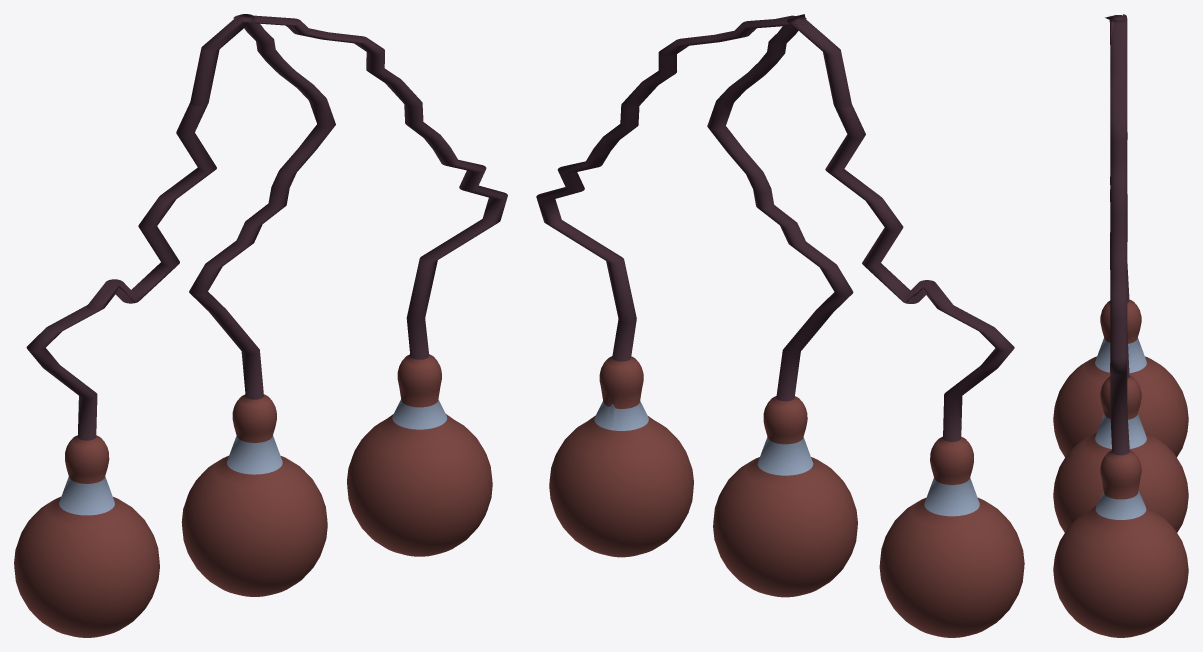
The model's file is ÁlvaroSaravia_4C_boleadoras.fbx.
The picture shows the model from 3 angles, left to right: view 1: azimuth 30°, elevation 25°; view 2: azimuth 150°, elevation 25°; view 3: azimuth 270°, elevation 25°; orthographic projection. The views are drawn at different scales.
Parts seen in each view (by area): view 1: Sphere.003; view 2: Sphere.003; view 3: Sphere.003.
Boxes of the visible parts, left/top/right/bottom form: Sphere.003: left=14, top=14, right=507, bottom=637; Sphere.003: left=536, top=14, right=1024, bottom=637; Sphere.003: left=1053, top=14, right=1188, bottom=637.
Size of the model in its own units: 114 by 130 by 29.92.
Materials: 1 (1 with a texture image).
